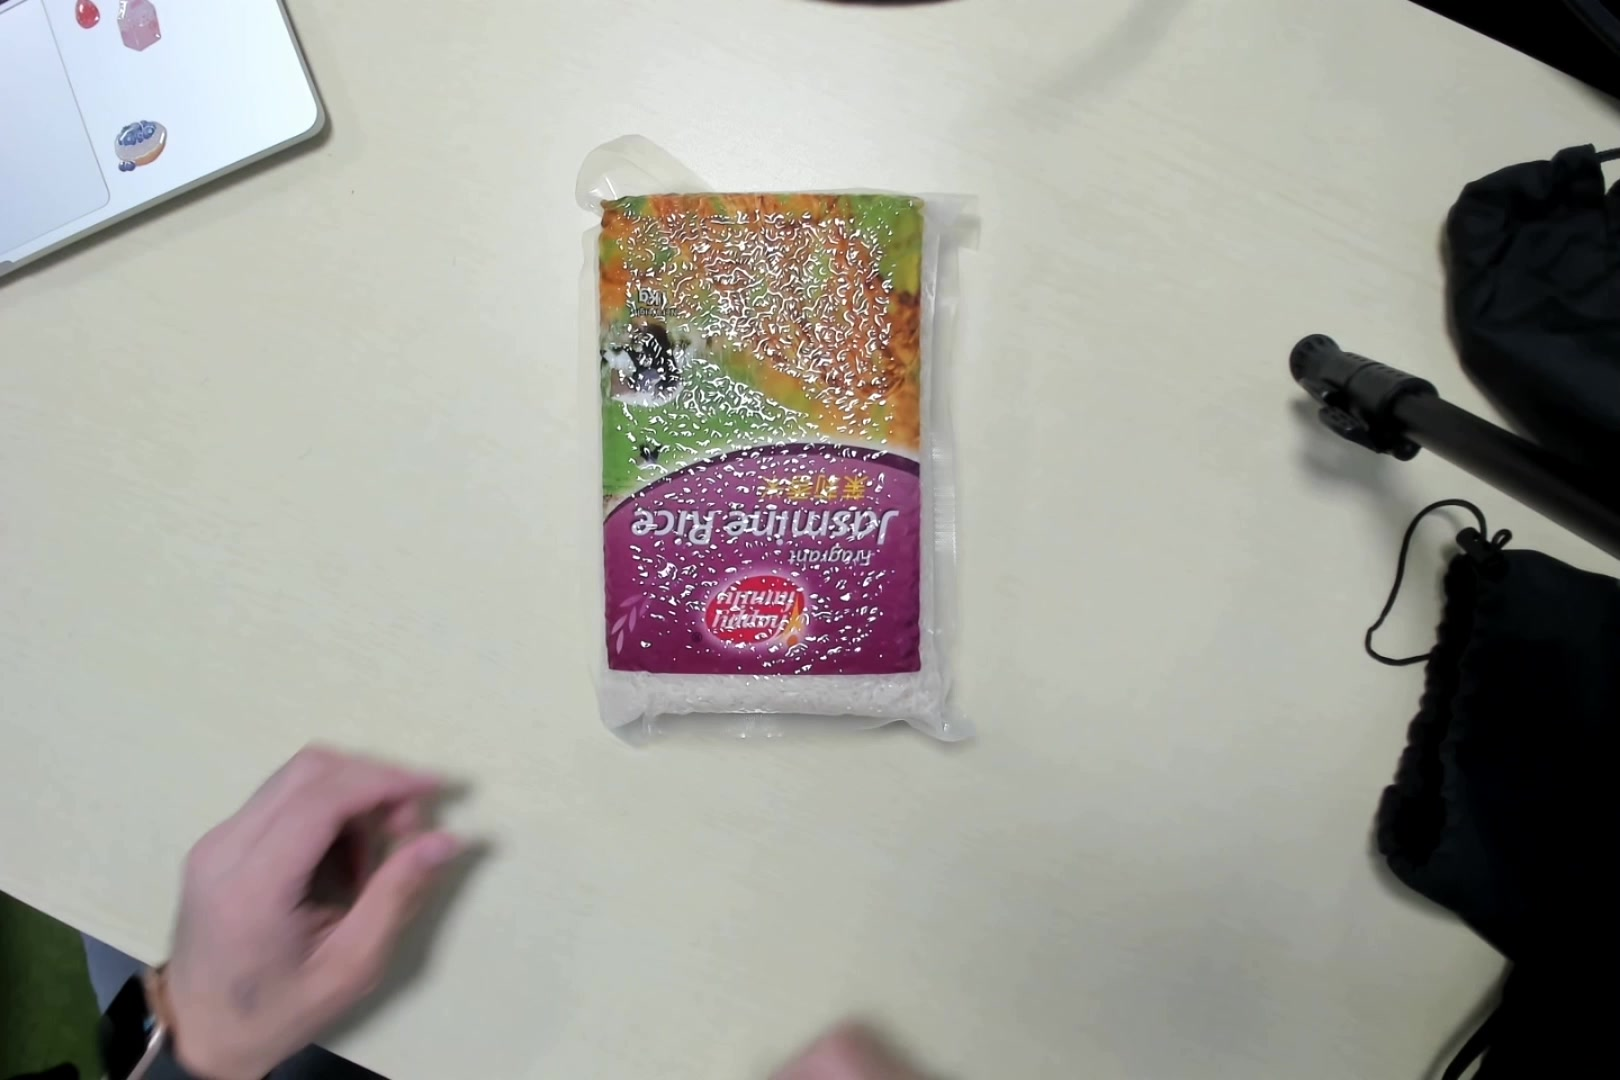Rice(White)_1000-1999g_NonHalal_NonHealthy: (588, 149, 979, 759)
